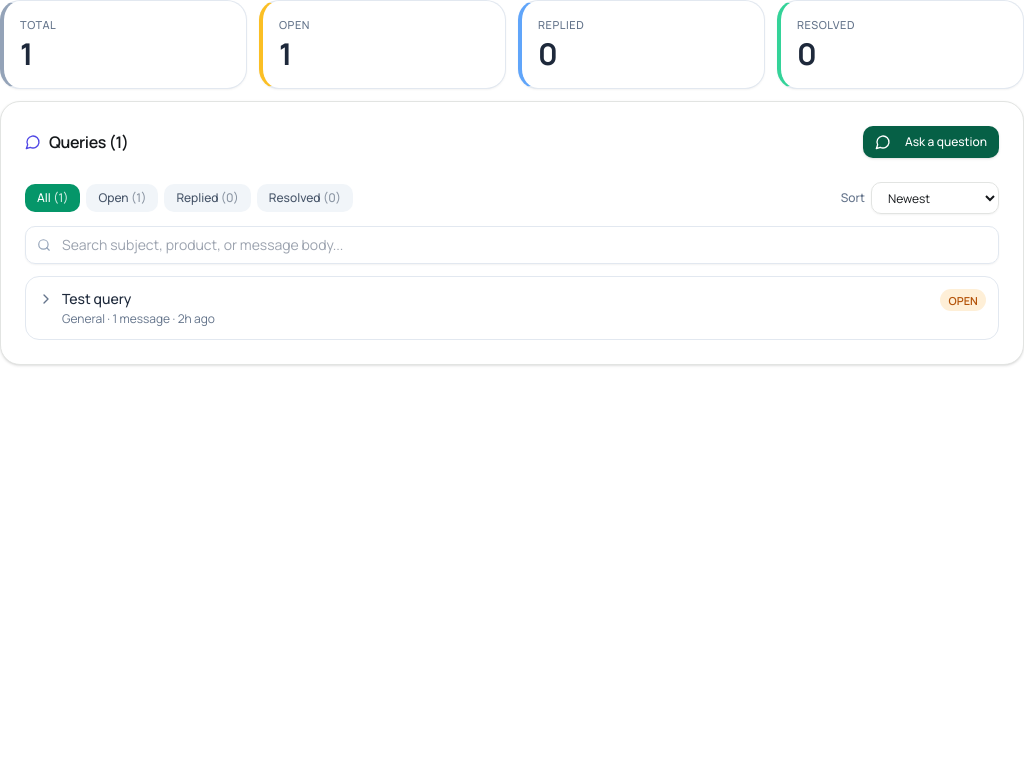
Test case: OrderQueriesTab — expand + reply › expanding a card shows the thread and reply form
The width and height of the screenshot is (1024, 768).
Expected: the element with test id "query-card-q1" is shown, top-left (25, 276), bottom-right (999, 340)
Click the button "Test query General · 1 message · 2h ago OPEN".
click(97, 299)  # box top-left (38, 289), bottom-right (986, 327)
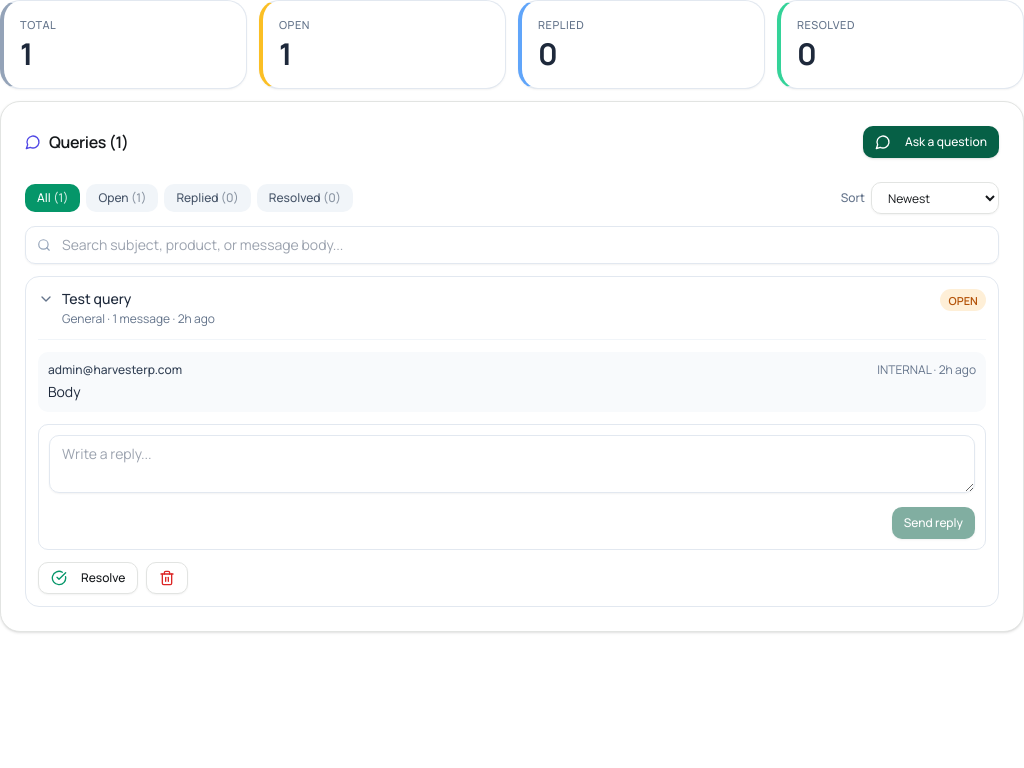
Result: the element with test id "query-thread-q1" is shown at top-left (38, 352), bottom-right (986, 412)
Result: the element with test id "query-reply-form-q1" is shown at top-left (38, 424), bottom-right (986, 550)
